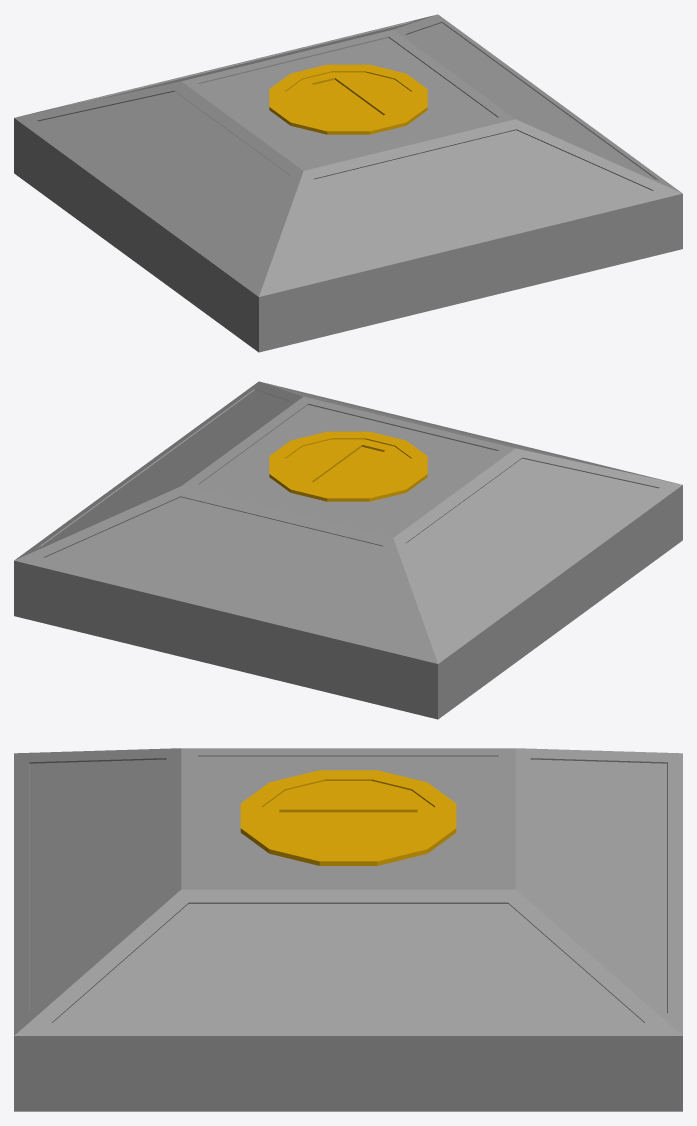
File: CoinPlatform.fbx
The picture shows the model from 3 angles, top to bottom: view 1: azimuth 30°, elevation 25°; view 2: azimuth 150°, elevation 25°; view 3: azimuth 270°, elevation 25°; orthographic projection. The views are drawn at different scales.
Visible parts, largest first — view 1: CoinPlatform; view 2: CoinPlatform; view 3: CoinPlatform.
Boxes of the visible parts, <box> form: CoinPlatform: <box>14,14,682,352</box>; CoinPlatform: <box>14,381,682,719</box>; CoinPlatform: <box>14,748,682,1111</box>.
Bounding box in the file's own units: 400 × 102 × 400.
